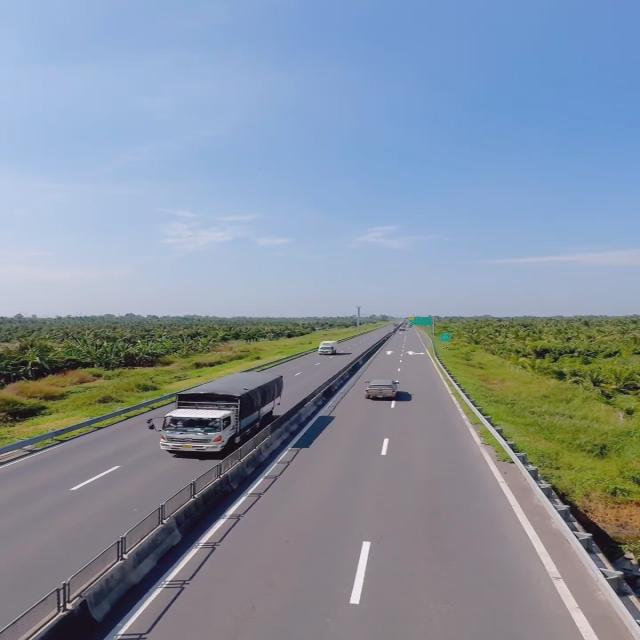car: (365, 379, 407, 401)
truck: (156, 370, 284, 459)
